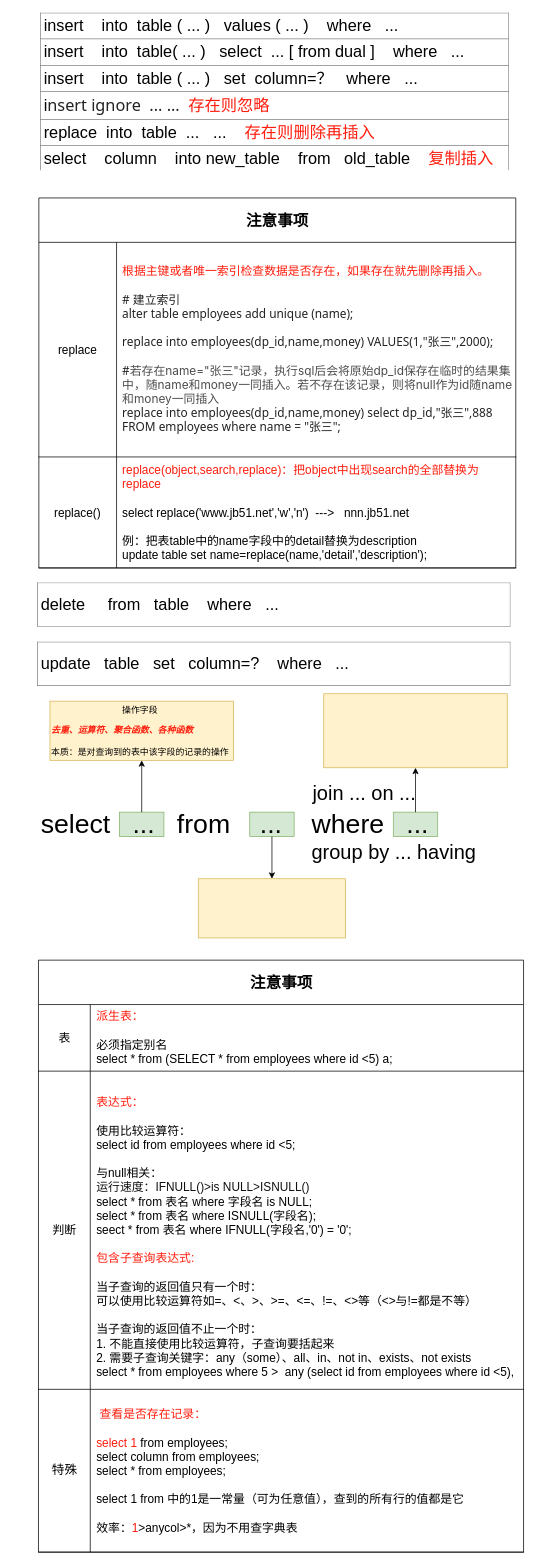
The diagram is 537 pixels wide and 1565 high, and some of its shapes have lost their labels. Each missing label, with the centre of its shape:
"定义判断 表达式、包含子查询的表达式 本质：where后表达式为true时，表达式作为条件带入前面查询语句，否则不执行" belongs at (415,730).
"选择表 子查询、派生表 本质：是选择要查询的表（总数据）" belongs at (272,908).
